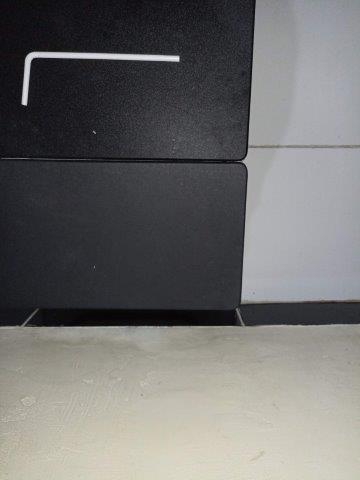sedotan: (20, 51, 179, 105)
